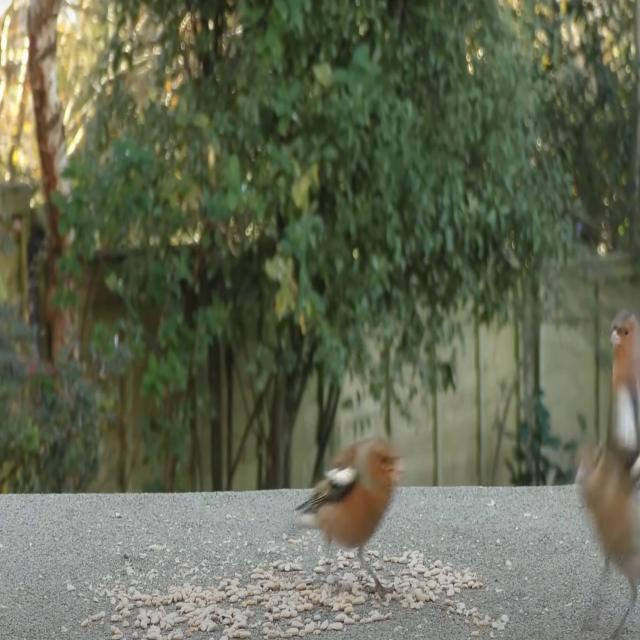beak: (391, 459, 404, 484), (609, 326, 619, 348)
bird: (299, 436, 402, 602), (576, 431, 640, 639), (605, 312, 640, 459)
